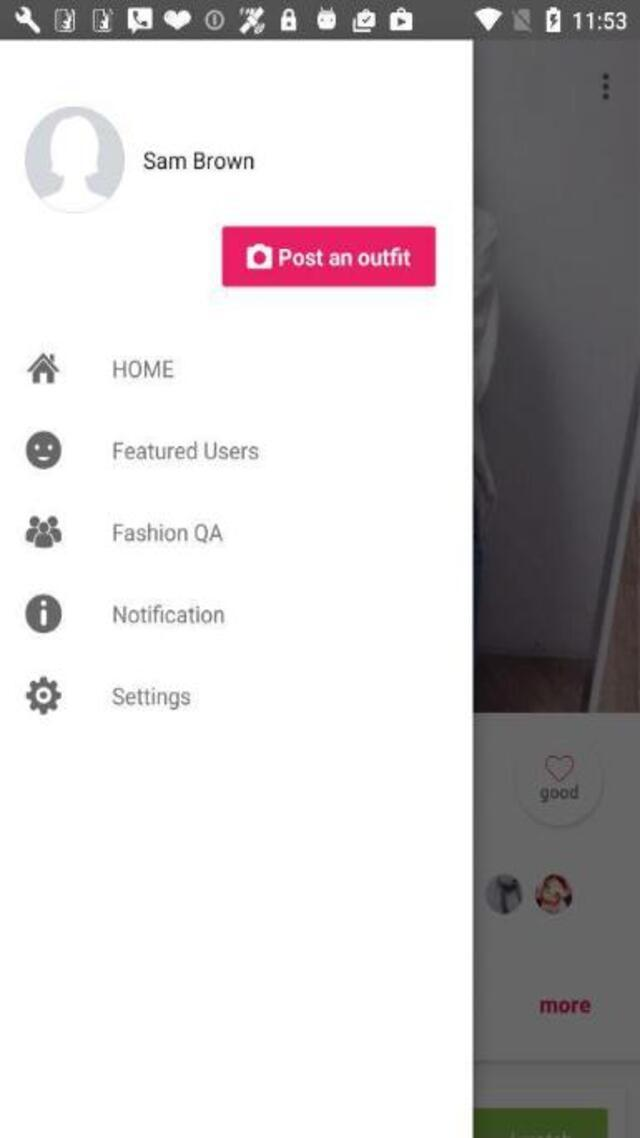Icon: (25, 107, 125, 214), (24, 430, 62, 470), (24, 594, 62, 633), (24, 676, 62, 714), (23, 514, 63, 548), (26, 351, 60, 385)
Text: (113, 439, 259, 460), (112, 603, 225, 624), (112, 523, 224, 544), (144, 150, 255, 170), (112, 684, 192, 709), (112, 358, 174, 378)
TextButton: (222, 226, 436, 286)
